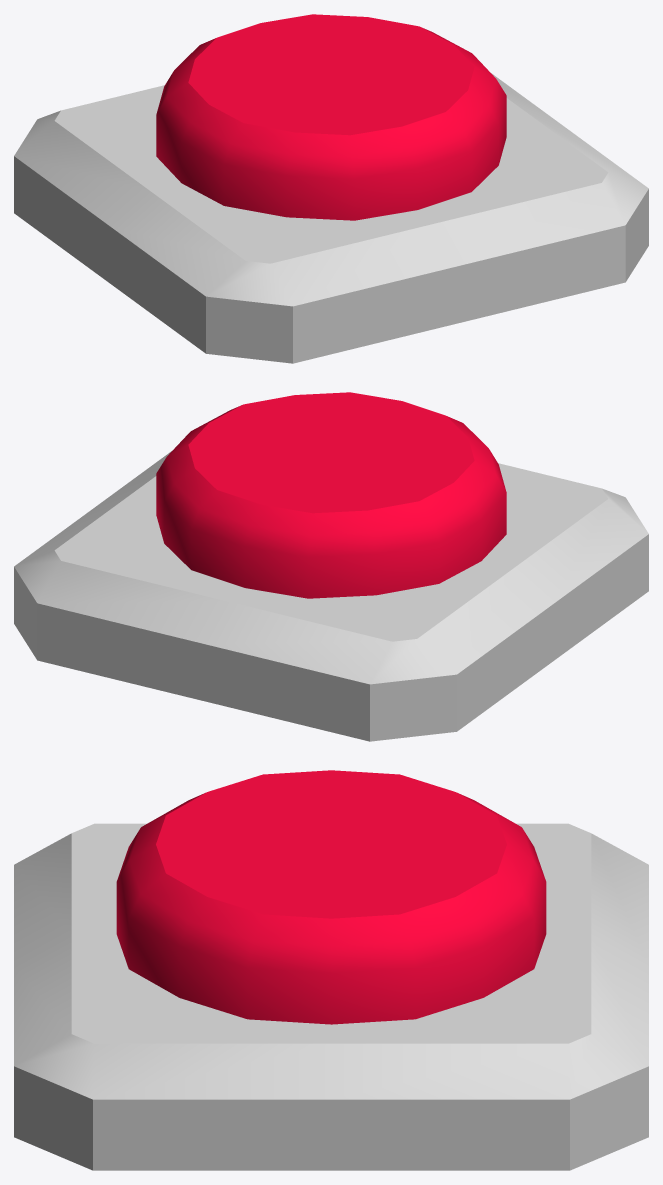
Rendered from LED_3_Red.fbx.
The picture shows the model from 3 angles, top to bottom: view 1: azimuth 30°, elevation 25°; view 2: azimuth 150°, elevation 25°; view 3: azimuth 270°, elevation 25°; orthographic projection. The views are drawn at different scales.
Parts seen in each view (by area): view 1: LED_3_Red; view 2: LED_3_Red; view 3: LED_3_Red.
Part boxes in pixels (x1,y1,x2,y2): LED_3_Red: (14, 14, 648, 363); LED_3_Red: (14, 392, 648, 741); LED_3_Red: (14, 770, 648, 1170).
Bounding box in the file's own units: 29.08 × 9.7 × 29.08.
